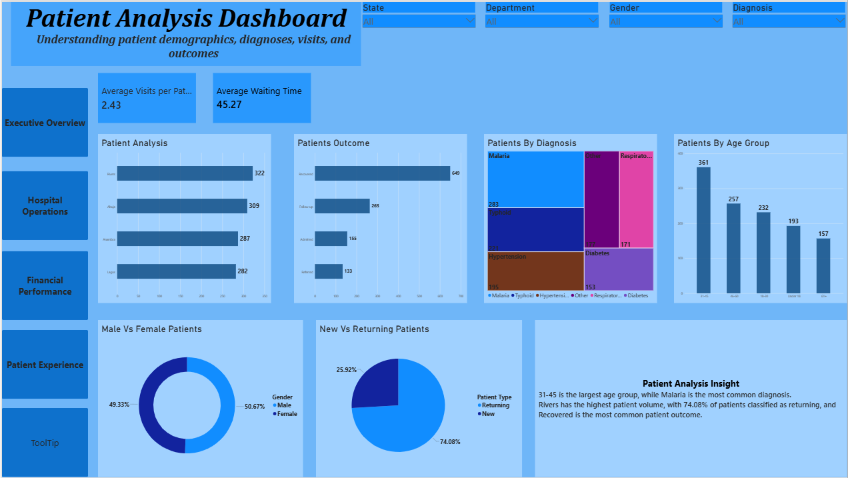

Layout of this report page (visuals, bound fields, positions):
{"tool":"powerbi","page":{"name":"Patient Analysis","canvas":[3840,2160],"ordinal":1},"visuals":[{"type":"shape","box":[40.9,0,1589.9,290.7],"z":0},{"type":"clusteredColumnChart","title":"Patients By Age Group","fields":{"Category":["Patient_Visits.Age Group"],"Y":["Date_Table.Total Patients"]},"box":[3052.6,599.6,785.9,767.7],"z":1000},{"type":"donutChart","title":"Male Vs Female Patients","fields":{"Category":["Patient_Visits.Gender"],"Y":["Date_Table.Total Patients"]},"box":[436.1,1444.6,931.2,713.2],"z":2000},{"type":"pieChart","title":"New Vs Returning Patients","fields":{"Category":["Patient_Visits.Patient Type"],"Y":["Date_Table.Total Patients"]},"box":[1426.4,1444.6,935.8,713.2],"z":3000},{"type":"treemap","title":"Patients By Diagnosis","fields":{"Group":["Patient_Visits.Diagnosis"],"Values":["Date_Table.Total Patients"]},"box":[2189.5,599.6,785.9,767.7],"z":4000},{"type":"clusteredBarChart","fields":{"Category":["Patient_Visits.State"],"Y":["Date_Table.Total Patients"]},"box":[436.1,599.6,785.9,767.7],"z":5000},{"type":"cardVisual","fields":{"Data":["Patient_Visits.Average Visits per Patient"]},"box":[436.1,322.5,445.2,227.1],"z":6000},{"type":"clusteredBarChart","title":"Patients Outcome","fields":{"Category":["Patient_Visits.Outcome"],"Y":["Date_Table.Total Patients"]},"box":[1326.4,599.6,785.9,767.7],"z":7000},{"type":"textbox","box":[109,0,1521.8,290.7],"z":8000},{"type":"cardVisual","fields":{"Data":["Date_Table.Patient Analysis Insight"]},"box":[2421.2,1444.6,1417.3,713.2],"z":9000},{"type":"cardVisual","fields":{"Data":["Date_Table.Average Waiting Time"]},"box":[958.5,322.5,445.2,227.1],"z":10000},{"type":"slicer","fields":{"Values":["Patient_Visits.State"]},"box":[1630.8,0,526.9,168.1],"z":11000},{"type":"slicer","fields":{"Values":["Patient_Visits.Diagnosis"]},"box":[3311.6,0,526.9,168.1],"z":12000},{"type":"slicer","fields":{"Values":["Patient_Visits.Gender"]},"box":[2752.8,0,526.9,168.1],"z":13000},{"type":"slicer","fields":{"Values":["Patient_Visits.Department"]},"box":[2189.5,0,526.9,168.1],"z":13001},{"type":"actionButton","box":[0,390.7,390.7,313.4],"z":13002},{"type":"actionButton","box":[0,767.7,390.7,313.4],"z":13003},{"type":"actionButton","box":[0,1131.1,390.7,313.4],"z":13004},{"type":"actionButton","box":[0,1490,390.7,313.4],"z":13005},{"type":"actionButton","box":[0,1844.3,390.7,313.4],"z":13006}]}

Visuals, with their boxes in screenshot pixels (x1, y1, x2, y2), scaled from the page's 3840x2160 canvas onto the 852x478 screenshot:
shape: (left=9, top=0, right=362, bottom=64)
"Patients By Age Group" clusteredColumnChart: (left=677, top=133, right=851, bottom=303)
"Male Vs Female Patients" donutChart: (left=97, top=320, right=303, bottom=477)
"New Vs Returning Patients" pieChart: (left=316, top=320, right=524, bottom=477)
"Patients By Diagnosis" treemap: (left=486, top=133, right=660, bottom=303)
clusteredBarChart - Patient_Visits.State x Date_Table.Total Patients: (left=97, top=133, right=271, bottom=303)
cardVisual - Patient_Visits.Average Visits per Patient: (left=97, top=71, right=196, bottom=122)
"Patients Outcome" clusteredBarChart: (left=294, top=133, right=469, bottom=303)
textbox: (left=24, top=0, right=362, bottom=64)
cardVisual - Date_Table.Patient Analysis Insight: (left=537, top=320, right=851, bottom=477)
cardVisual - Date_Table.Average Waiting Time: (left=213, top=71, right=311, bottom=122)
slicer - Patient_Visits.State: (left=362, top=0, right=479, bottom=37)
slicer - Patient_Visits.Diagnosis: (left=735, top=0, right=851, bottom=37)
slicer - Patient_Visits.Gender: (left=611, top=0, right=728, bottom=37)
slicer - Patient_Visits.Department: (left=486, top=0, right=603, bottom=37)
actionButton: (left=0, top=86, right=87, bottom=156)
actionButton: (left=0, top=170, right=87, bottom=239)
actionButton: (left=0, top=250, right=87, bottom=320)
actionButton: (left=0, top=330, right=87, bottom=399)
actionButton: (left=0, top=408, right=87, bottom=477)
